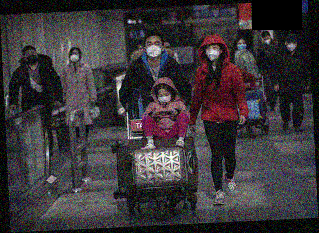with_mask: (145, 40, 163, 60), (205, 44, 220, 62), (25, 50, 38, 65), (157, 91, 172, 104), (69, 51, 80, 63), (236, 41, 248, 51), (285, 41, 297, 51), (263, 36, 272, 46)
